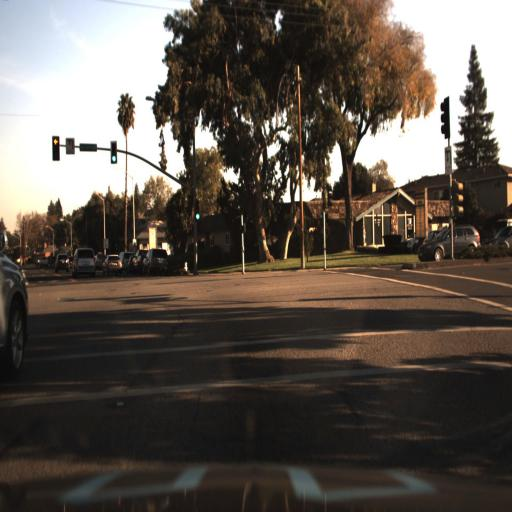car: (0, 198, 34, 422), (0, 232, 28, 393), (409, 214, 488, 270), (416, 220, 484, 263), (68, 247, 95, 284), (144, 247, 169, 279), (101, 252, 127, 280), (404, 225, 425, 255), (103, 248, 122, 276), (131, 247, 147, 280), (120, 245, 133, 282)
trafficLight-Green: (109, 139, 118, 165), (192, 199, 202, 220), (193, 209, 202, 229), (109, 151, 116, 169)
trafficLight-RedLeft: (51, 131, 64, 163), (50, 130, 60, 155)
